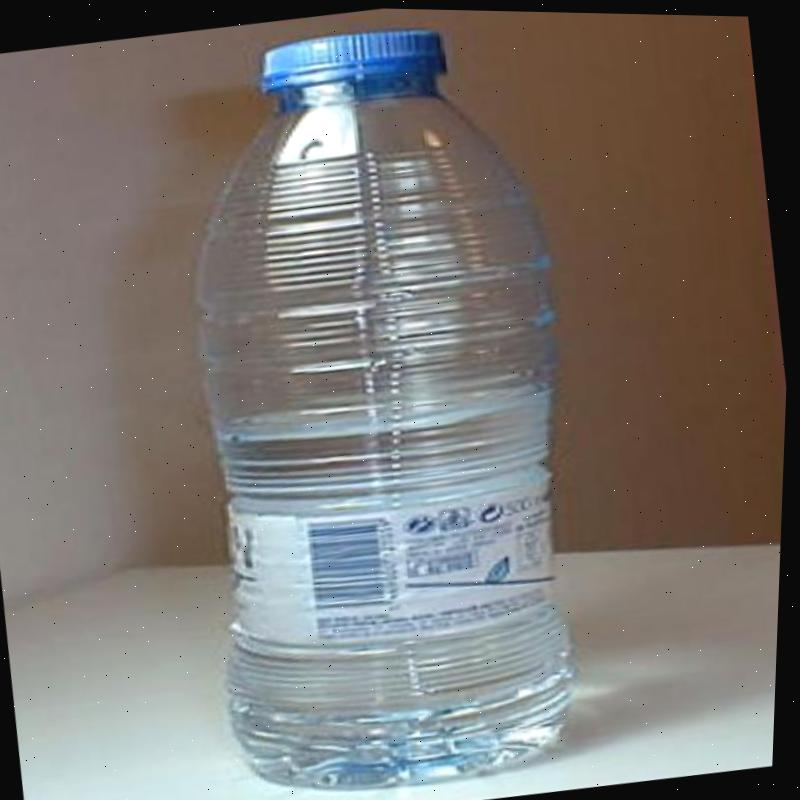botella: (136, 3, 631, 800)
